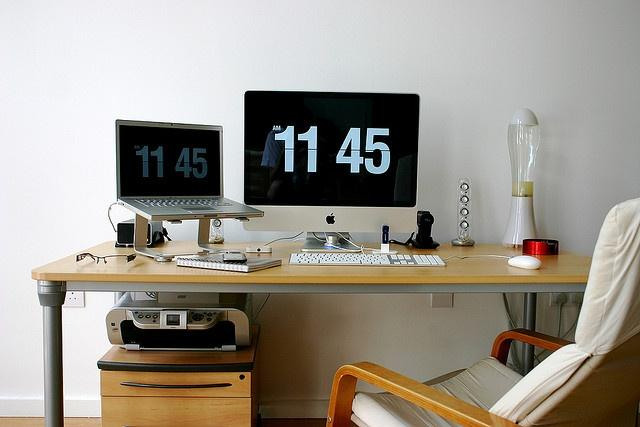AIO PC-Monitor-TV: (242, 89, 420, 233)
Meja: (30, 240, 592, 340)
Printer: (104, 291, 253, 352)
